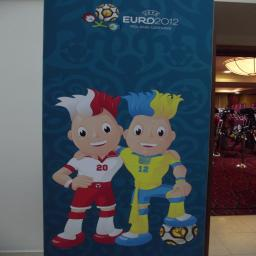football: (160, 223, 198, 246), (95, 4, 119, 22)
